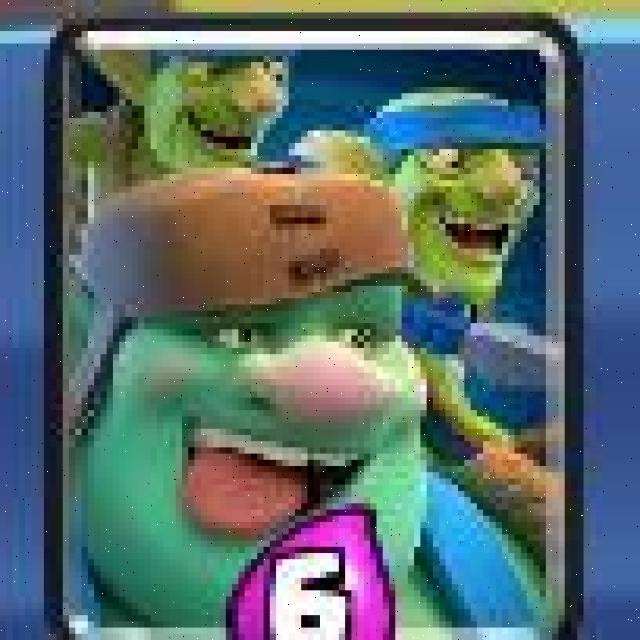Goblin_Giant: (46, 17, 586, 640)
